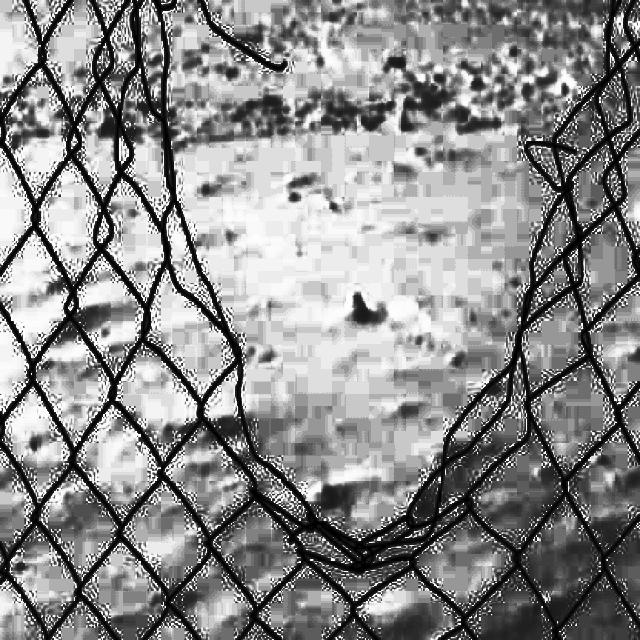anomaly-fence: (131, 1, 640, 571)
